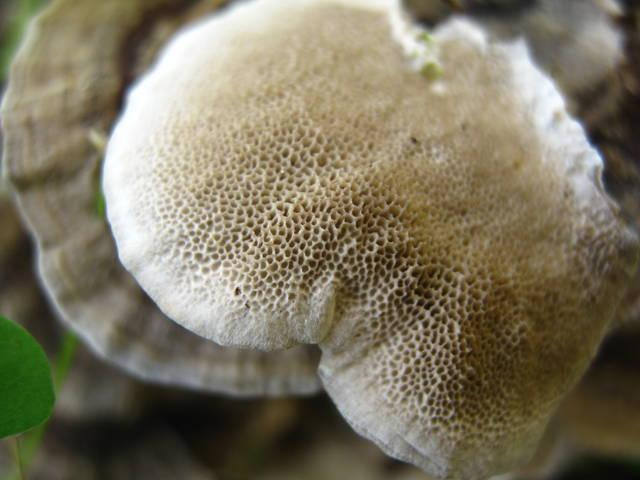Non-edible Mushroom: (98, 0, 639, 479)
